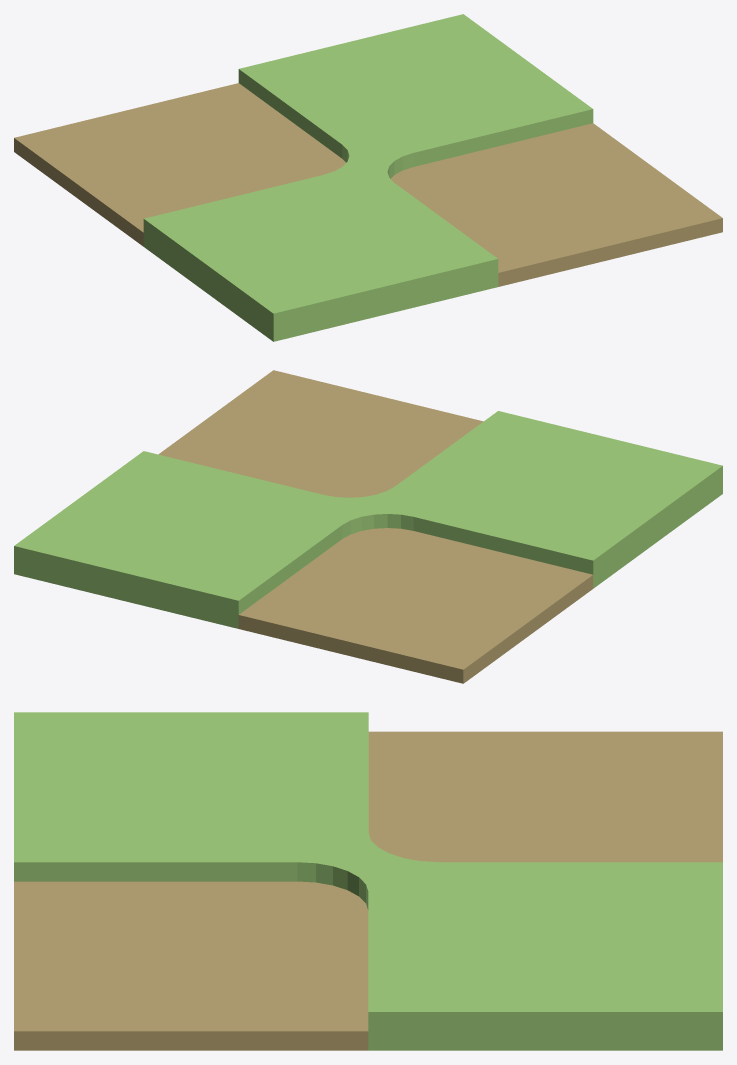
The model's file is Grass_Soil_Tile_2.fbx.
The picture shows the model from 3 angles, top to bottom: view 1: azimuth 30°, elevation 25°; view 2: azimuth 150°, elevation 25°; view 3: azimuth 270°, elevation 25°; orthographic projection. The views are drawn at different scales.
Parts seen in each view (by area): view 1: Base.002; view 2: Base.002; view 3: Base.002.
Part boxes in pixels (x1,y1,x2,y2): Base.002: [14, 14, 722, 341]; Base.002: [14, 370, 722, 683]; Base.002: [14, 712, 722, 1050].
Bounding box in the file's own units: 1 × 1 × 0.06.
